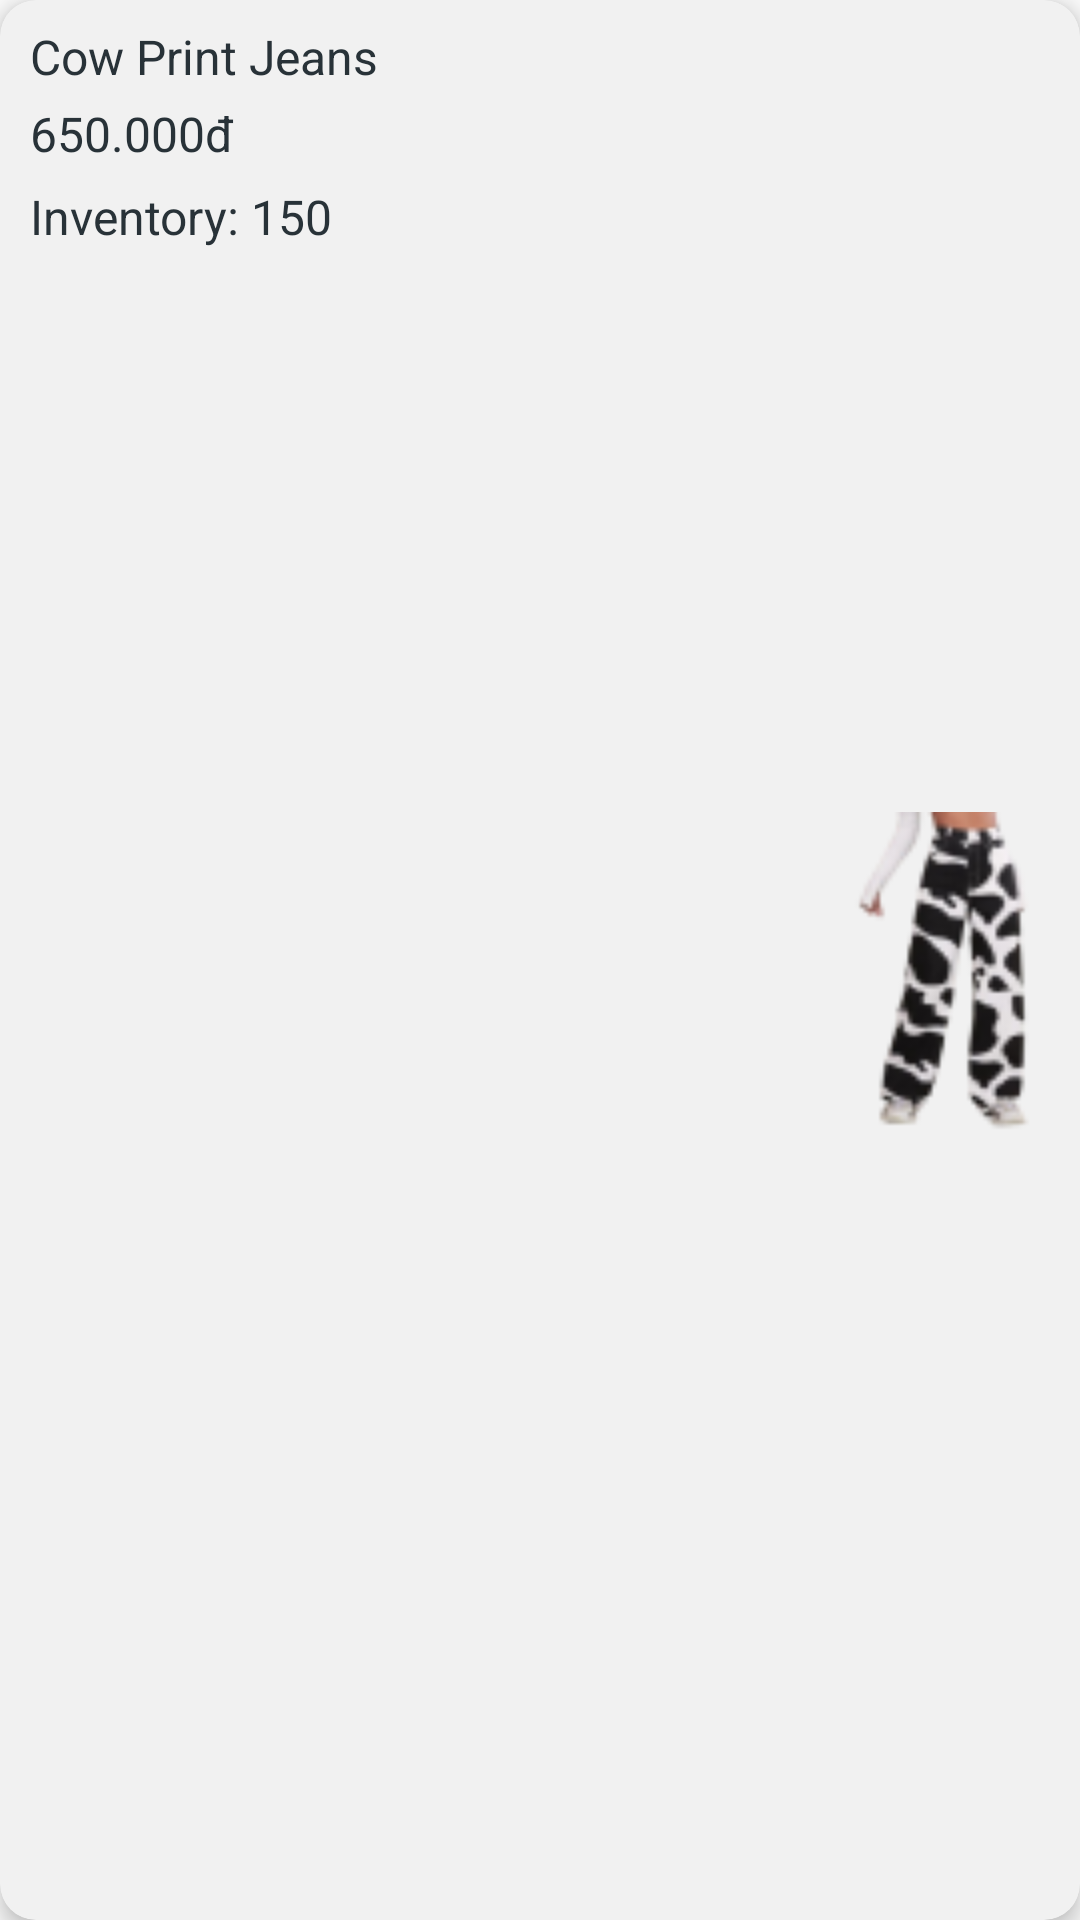

Locate icon controls on the screen. Image size 1080×1920, boxes as (x1=x1, y1=y1, x2=x2, y2=y2).
prod jean trans: (x1=859, y1=812, x2=1026, y2=1127)
